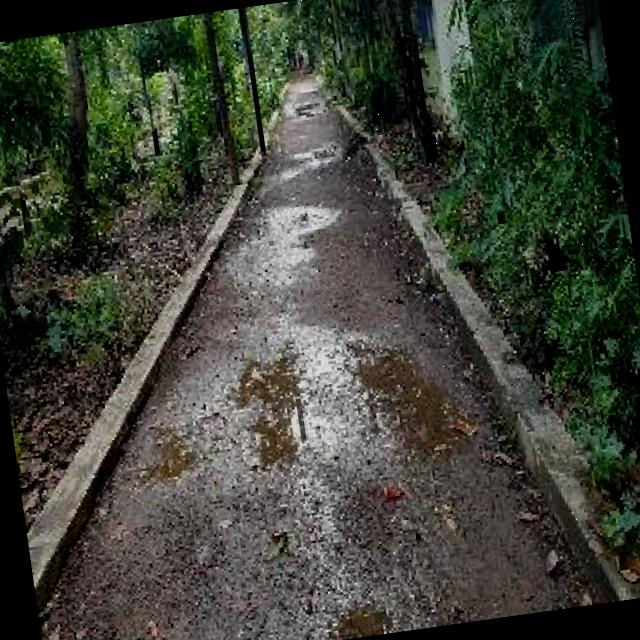stagnation: (126, 318, 456, 496)
